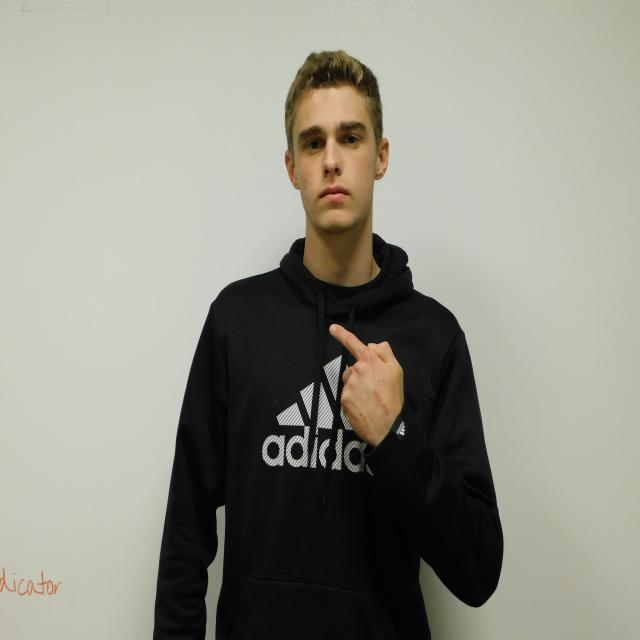I: (329, 324, 404, 443)
